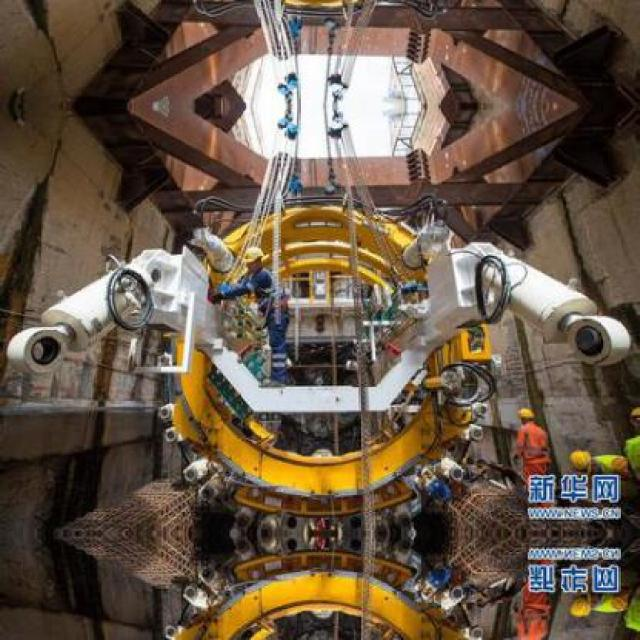helmet: (568, 450, 601, 478), (568, 588, 601, 616), (513, 404, 542, 427), (242, 246, 266, 272)
